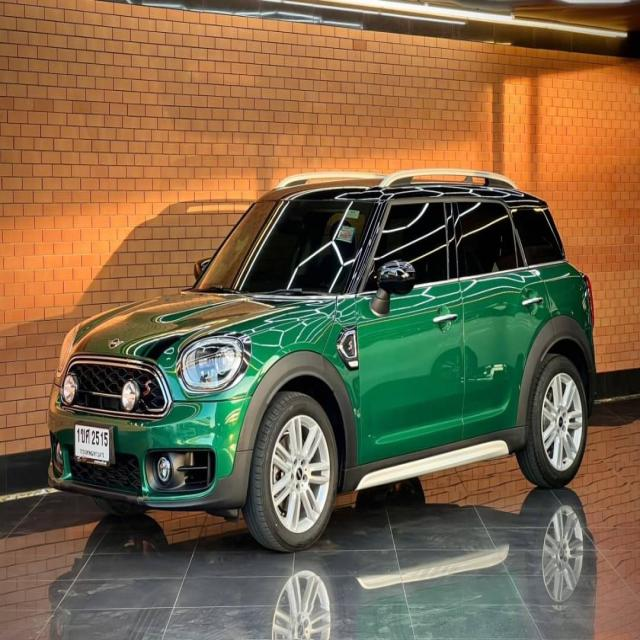license_plate: (72, 421, 111, 466)
